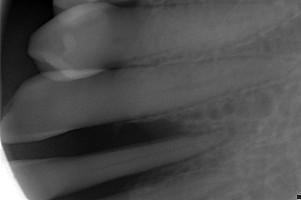Endo-Periodontal Lesion: (106, 164, 191, 196), (112, 119, 197, 151)
